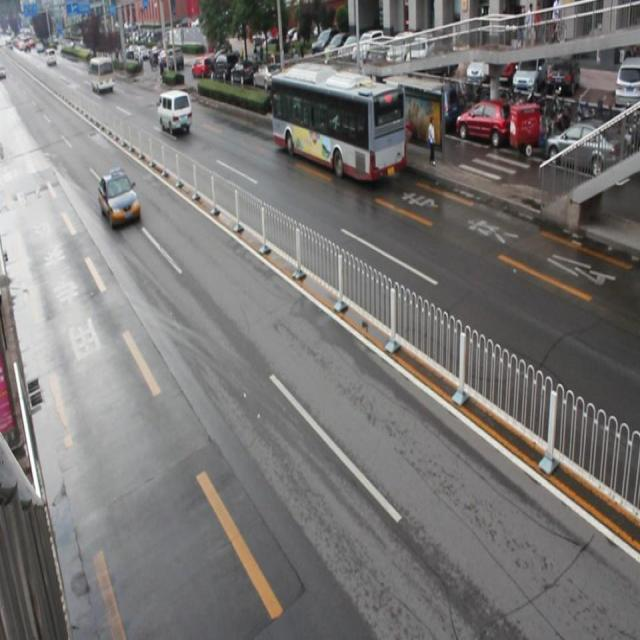car: (99, 168, 141, 226)
truck: (157, 90, 193, 135)
van: (270, 72, 405, 178)
